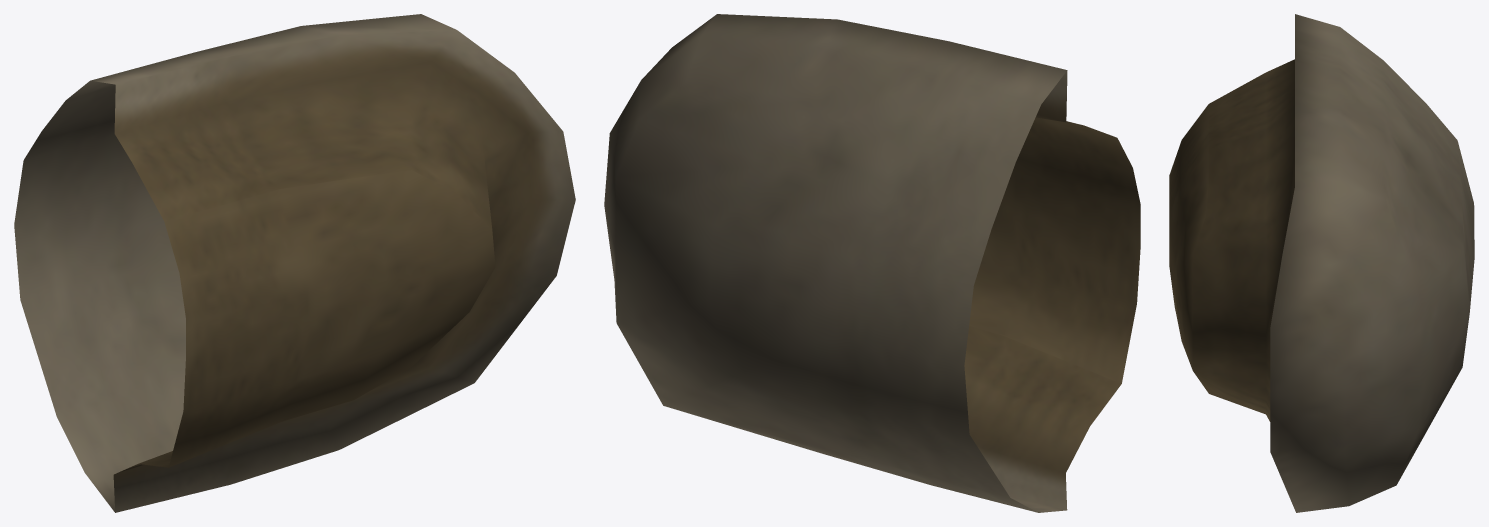
File: Tree Mushroom 1 - LOD 0.fbx
3 views of the same model, side by side, from view 1: azimuth 30°, elevation 25°; view 2: azimuth 150°, elevation 25°; view 3: azimuth 270°, elevation 25° (orthographic). The views are drawn at different scales.
Parts seen in each view (by area): view 1: Tree mushroom 1 - LOD 0; view 2: Tree mushroom 1 - LOD 0; view 3: Tree mushroom 1 - LOD 0.
Boxes of the visible parts, x1,y1,x2,y2 form: Tree mushroom 1 - LOD 0: (14, 14, 575, 512); Tree mushroom 1 - LOD 0: (604, 14, 1140, 512); Tree mushroom 1 - LOD 0: (1169, 14, 1474, 512).
Bounding box in the file's own units: 0.2375 × 0.2172 × 0.1581.
